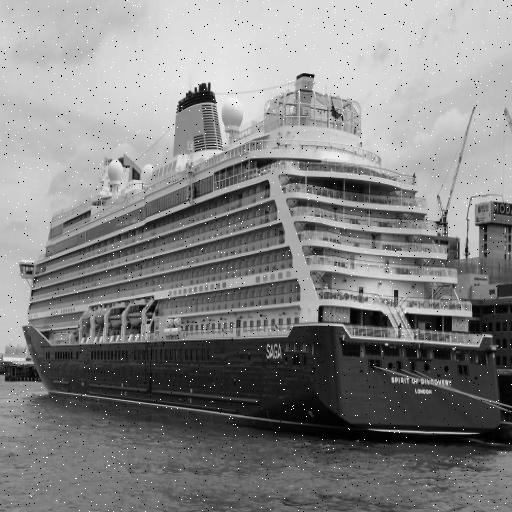cruises: (20, 53, 512, 453)
